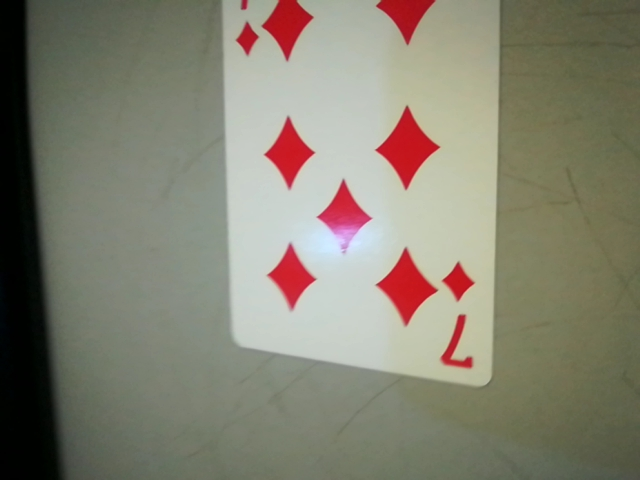fk 7: (431, 258, 485, 381)
